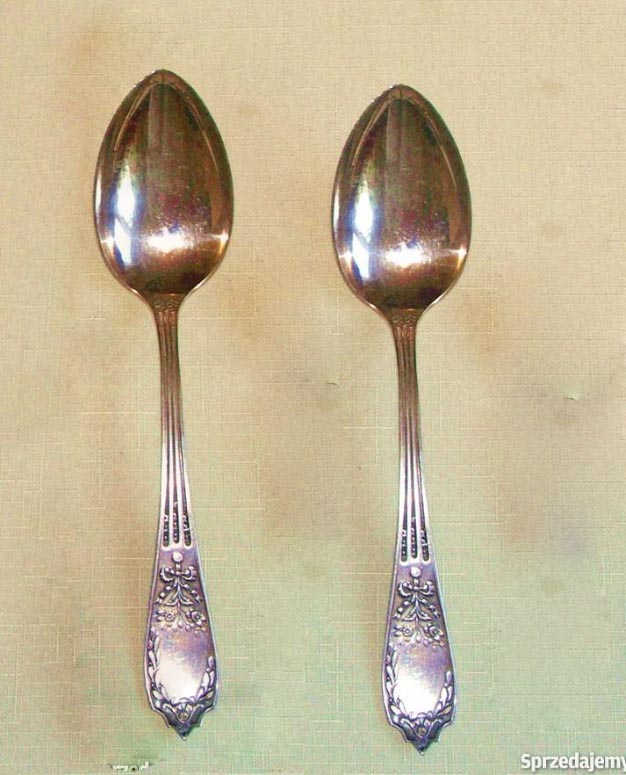Lyzka: (83, 66, 236, 301), (332, 82, 482, 318)
